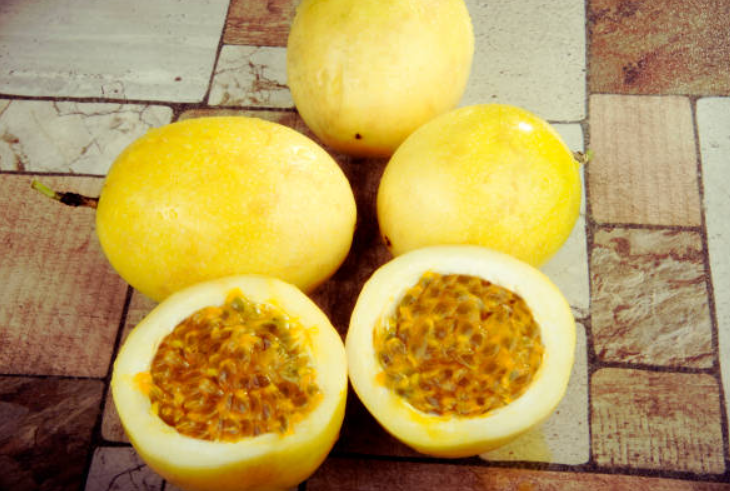maracuya: (86, 113, 361, 306), (374, 101, 584, 279)
